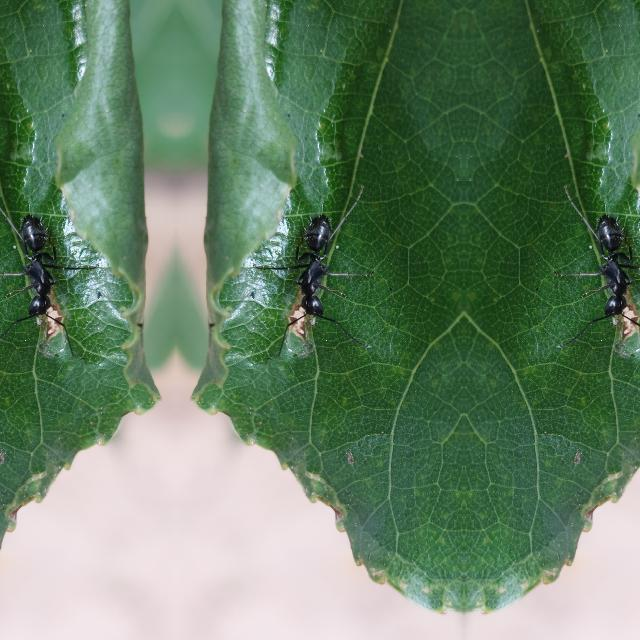Camponotus: (281, 192, 343, 354), (7, 192, 69, 354), (582, 192, 640, 352)
